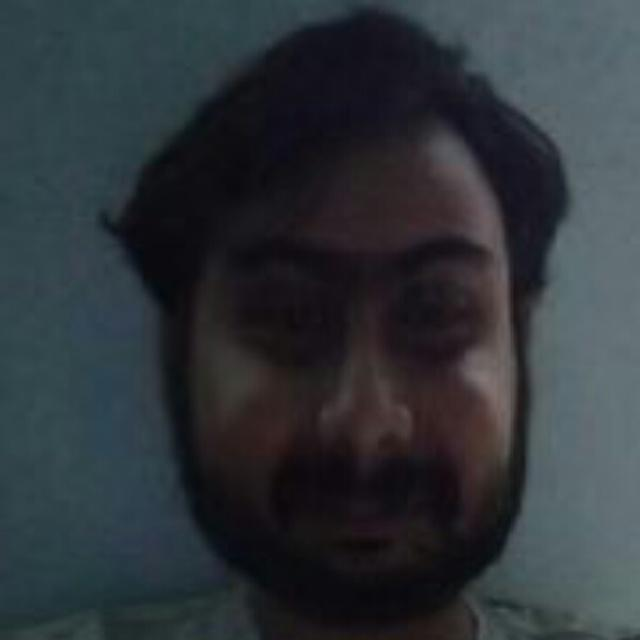Happy: (99, 23, 555, 605)
